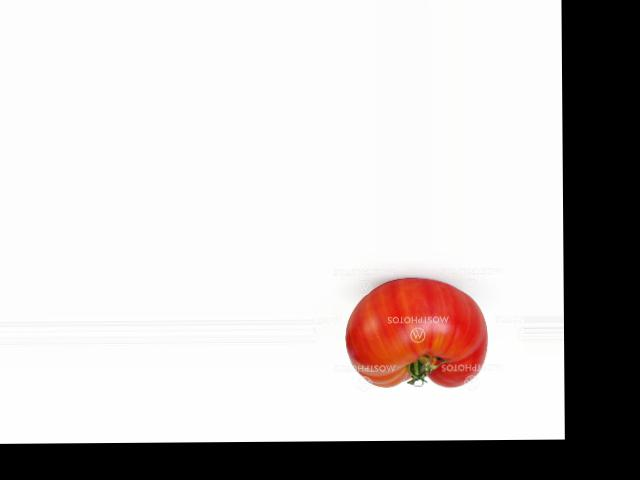tomato: (344, 277, 486, 388)
